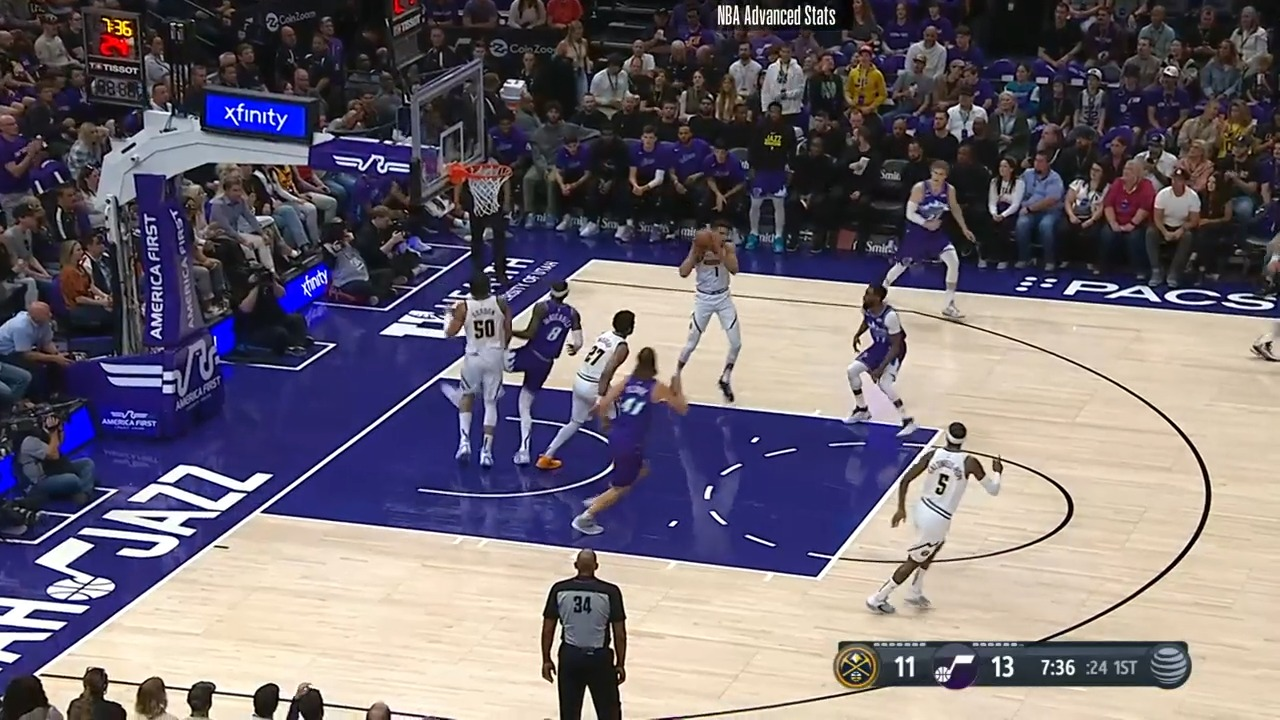net: (446, 154, 514, 212)
player: (868, 418, 995, 617), (574, 348, 691, 542), (535, 309, 638, 475), (507, 273, 589, 470), (439, 272, 518, 473), (881, 157, 976, 324), (672, 218, 746, 409), (843, 283, 914, 437), (1255, 207, 1280, 371)
referee: (536, 549, 629, 720)
